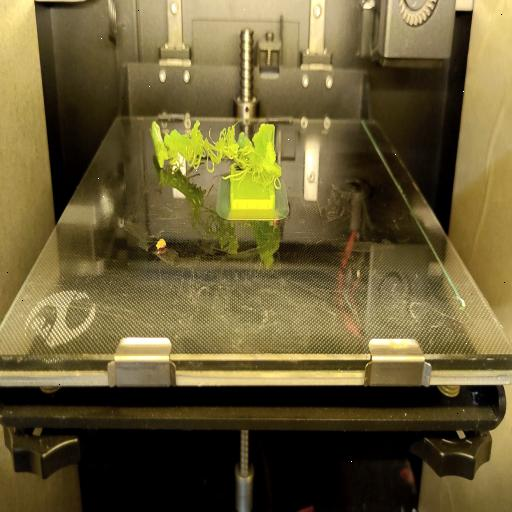spaghetti: (169, 116, 283, 188)
